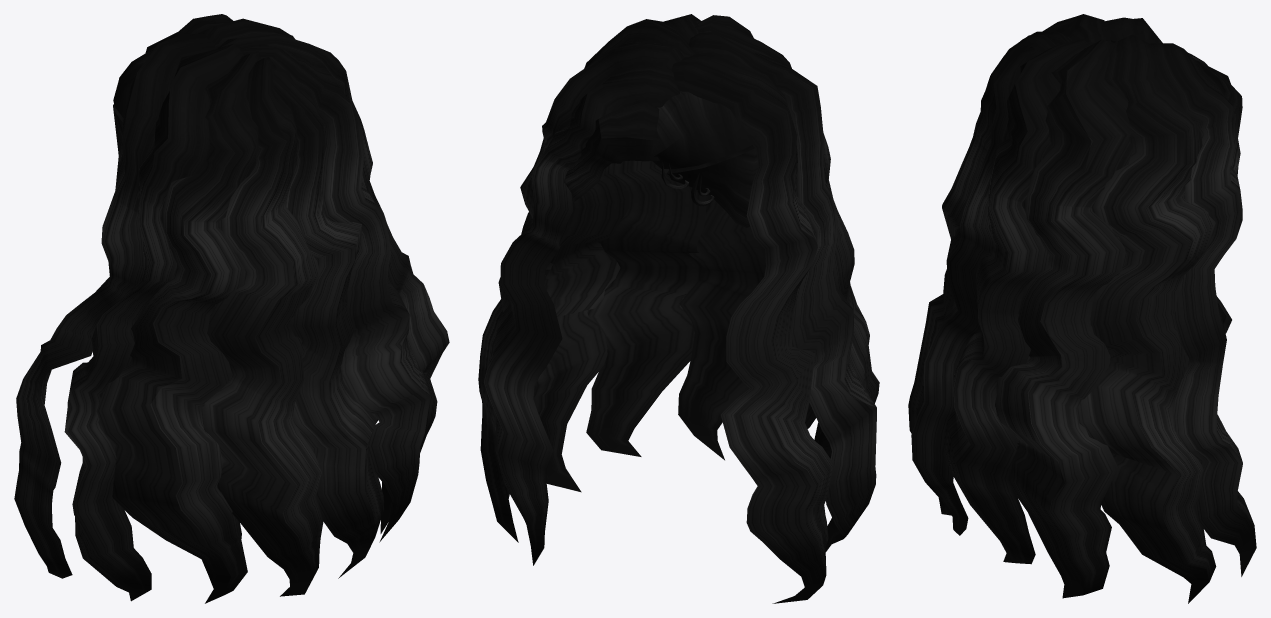
3 renders of one model, left to right at view 1: azimuth 30°, elevation 25°; view 2: azimuth 150°, elevation 25°; view 3: azimuth 270°, elevation 25°, orthographic. The views are drawn at different scales.
Parts seen in each view (by area): view 1: geometry_0; view 2: geometry_0; view 3: geometry_0.
Boxes of the visible parts, <box> form: geometry_0: <box>14,14,449,603</box>; geometry_0: <box>478,14,879,603</box>; geometry_0: <box>908,14,1256,603</box>.
Bounding box in the file's own units: 2.41 × 3.29 × 2.02.
Materials: 1 (1 with a texture image).
